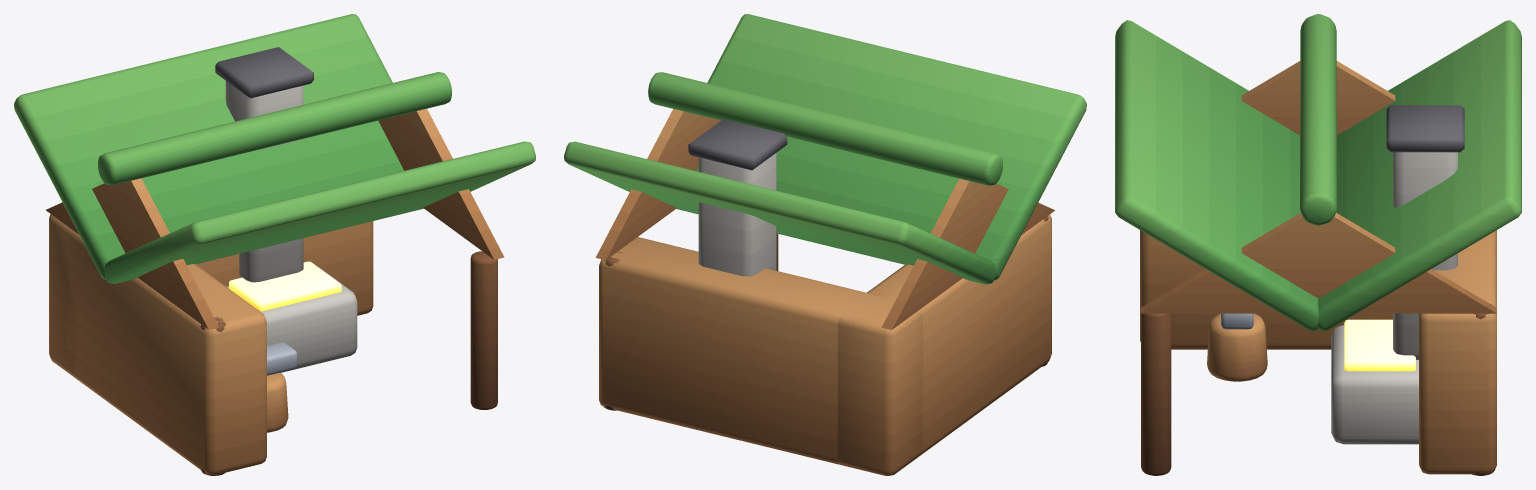
The model's file is forgeG.glb.
3 renders of one model, left to right at view 1: azimuth 30°, elevation 25°; view 2: azimuth 150°, elevation 25°; view 3: azimuth 270°, elevation 25°, orthographic. The views are drawn at different scales.
Visible parts, largest first — view 1: forgeG; view 2: forgeG; view 3: forgeG.
Part boxes in pixels (x1,y1,x2,y2): forgeG: [14, 14, 535, 475]; forgeG: [564, 14, 1086, 475]; forgeG: [1115, 14, 1521, 475].
Size of the model in its own units: 1.33 by 1.01 by 1.25.
Materials: 1 (1 with a texture image).
